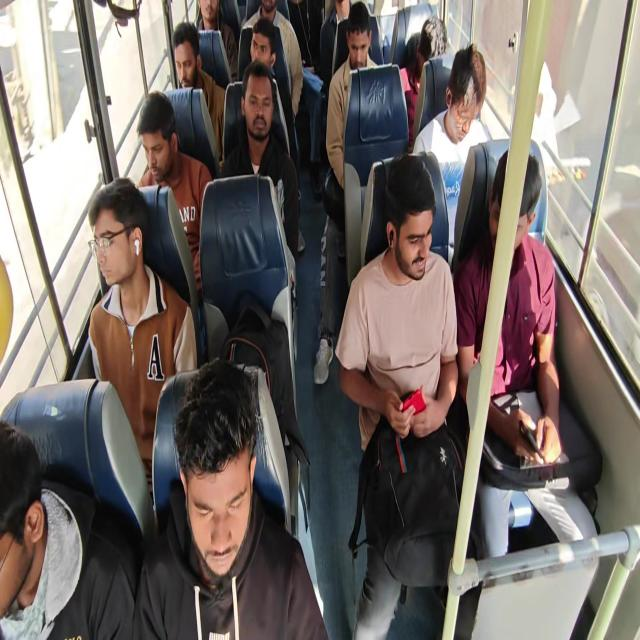person: (86, 182, 214, 408), (157, 367, 262, 629), (370, 180, 477, 367), (491, 155, 576, 343), (0, 424, 61, 639), (132, 100, 196, 205), (165, 18, 218, 94), (233, 76, 282, 150), (452, 41, 493, 129), (408, 23, 450, 80), (287, 0, 320, 66), (346, 10, 380, 63), (192, 0, 228, 41), (244, 33, 278, 71), (333, 0, 353, 28), (253, 2, 276, 22)
